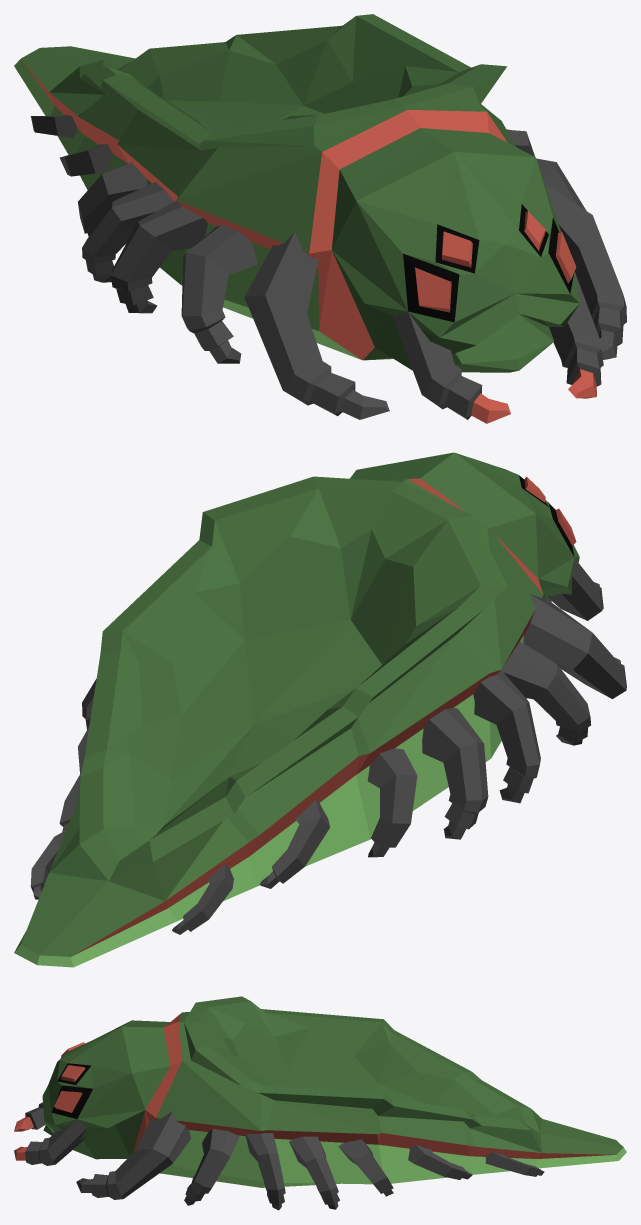
Rendered from enemy03-03.fbx.
The picture shows the model from 3 angles, top to bottom: view 1: azimuth 30°, elevation 25°; view 2: azimuth 150°, elevation 25°; view 3: azimuth 270°, elevation 25°; orthographic projection. The views are drawn at different scales.
Visible parts, largest first — view 1: enemy03-03; view 2: enemy03-03; view 3: enemy03-03.
Part boxes in pixels (x1,y1,x2,y2): enemy03-03: (14,14,626,423); enemy03-03: (14,452,626,967); enemy03-03: (14,996,626,1210).
Size of the model in its own units: 83.89 by 43.92 by 171.
